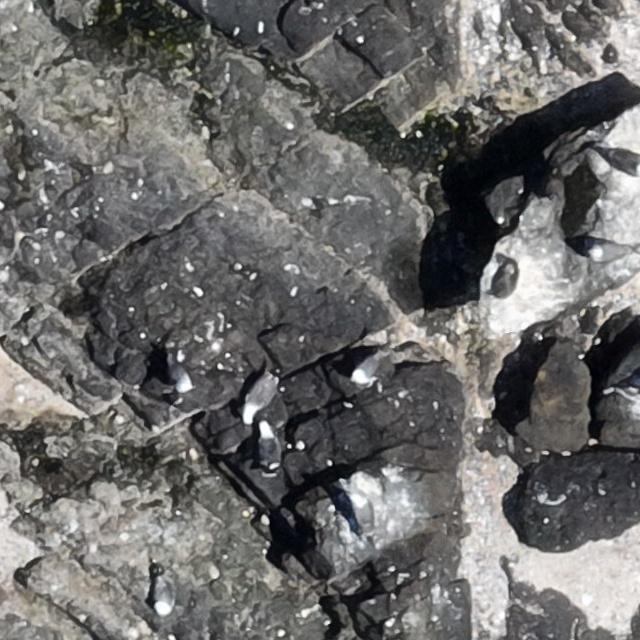umineko: (243, 371, 283, 426), (258, 418, 280, 471), (351, 492, 376, 538), (351, 351, 385, 384), (607, 152, 640, 174), (170, 361, 191, 393), (154, 581, 172, 615), (592, 242, 624, 259)
